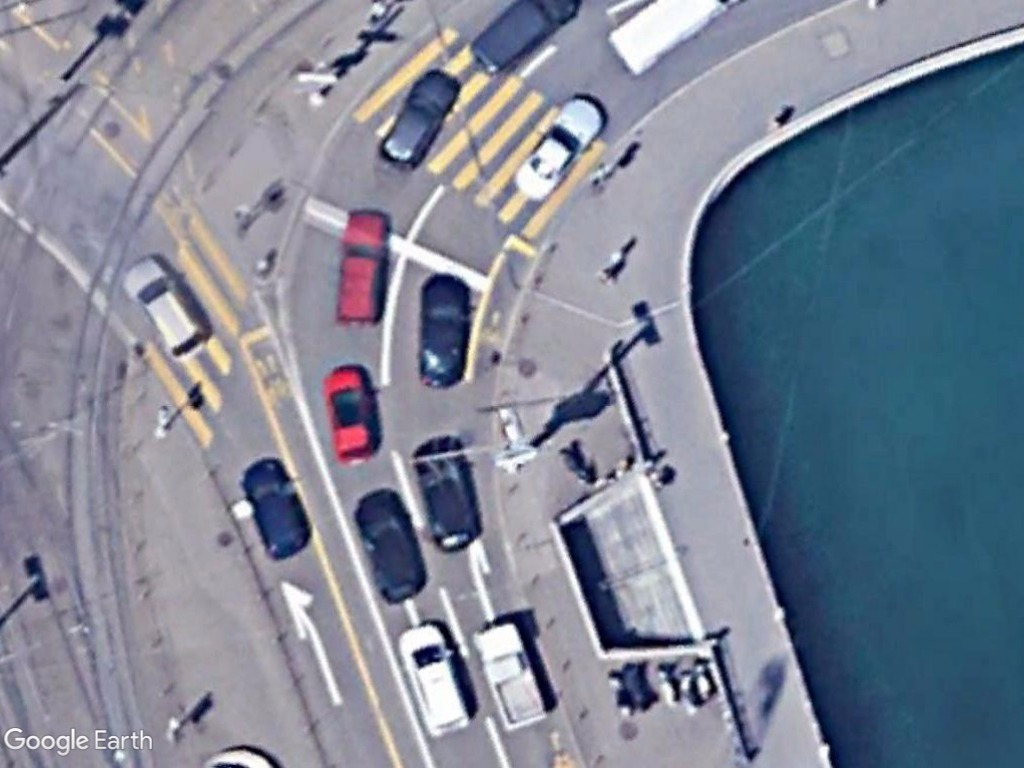car: (512, 93, 609, 205), (118, 256, 210, 365), (392, 621, 473, 744), (354, 485, 428, 605), (377, 68, 459, 175), (240, 457, 310, 562), (333, 206, 390, 328), (319, 363, 384, 466)
others: (473, 614, 547, 738)
